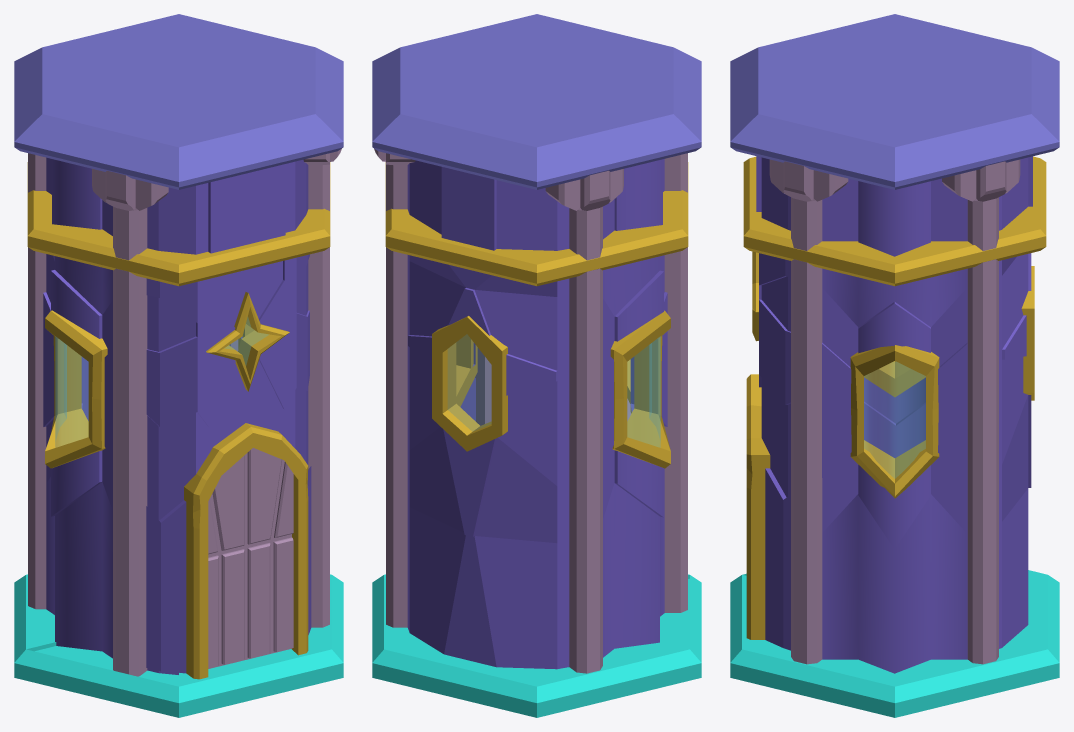
The model's file is baseTower.fbx.
The picture shows the model from 3 angles, left to right: view 1: azimuth 30°, elevation 25°; view 2: azimuth 150°, elevation 25°; view 3: azimuth 270°, elevation 25°; orthographic projection.
Visible parts, largest first — view 1: Cylinder, Top, pillars, door, Base, doorFrame, bannister, windowFrame, Glass1, starFrame, Glass2; view 2: Cylinder, Top, pillars, Base, bannister, windowFrame, otherWinFrame, Glass2, Glass1; view 3: Cylinder, Top, pillars, Base, bannister, windowFrame, Glass1, doorFrame, otherWinFrame, starFrame.
Boxes of the visible parts, x1,y1,x2,y2 form: Cylinder: (43,157,311,674); Top: (14,14,343,189); pillars: (28,148,341,676); door: (208,448,293,668); Base: (14,574,343,717); doorFrame: (184,423,308,679); bannister: (27,162,330,286); windowFrame: (45,310,254,468); Glass1: (55,336,88,446); starFrame: (206,292,289,391); Glass2: (225,318,268,364); Cylinder: (407,159,667,669); Top: (372,14,701,189); pillars: (374,148,687,673); Base: (372,574,701,717); bannister: (385,162,688,286); windowFrame: (456,310,670,468); otherWinFrame: (432,316,507,451); Glass2: (448,334,491,431); Glass1: (627,336,660,446); Cylinder: (756,156,1032,673); Top: (730,14,1059,189); pillars: (769,159,1020,664); Base: (730,570,1059,717); bannister: (743,156,1046,286); windowFrame: (850,345,939,498); Glass1: (864,362,925,478); doorFrame: (746,374,770,639); otherWinFrame: (1021,266,1034,400); starFrame: (752,251,758,341).
Bounding box in the file's own units: 320 × 517 × 277.
